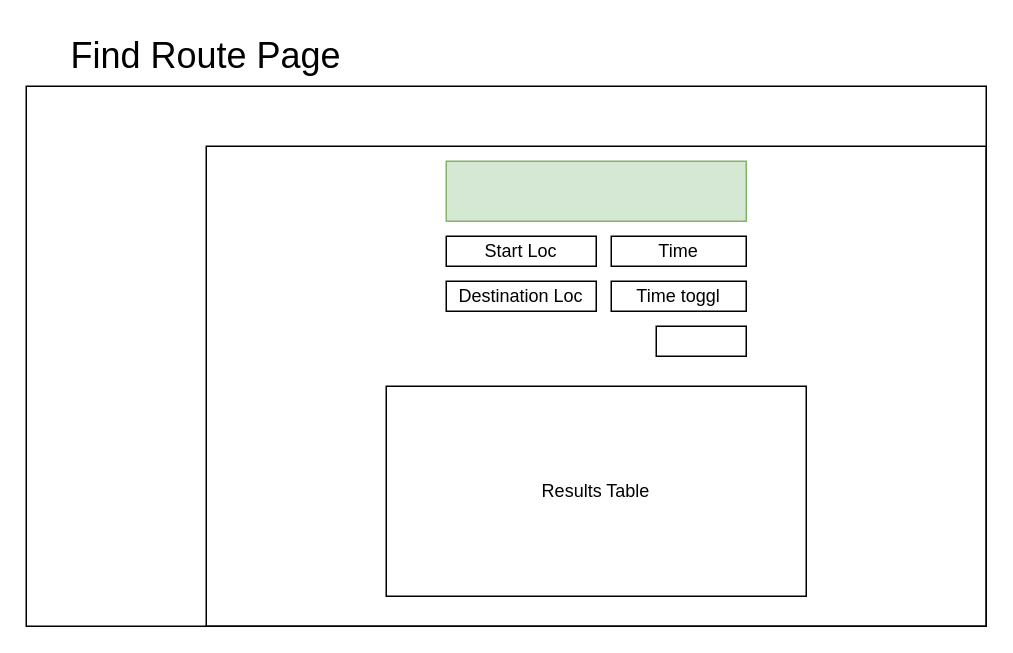
The diagram is 1013 pixels wide and 653 high, and some of its shapes have lost their labels. Here are the shapes that lost their labels. From the top down, the box of each, then its label:
(445, 160, 746, 221): Title
(655, 325, 746, 356): Submit
